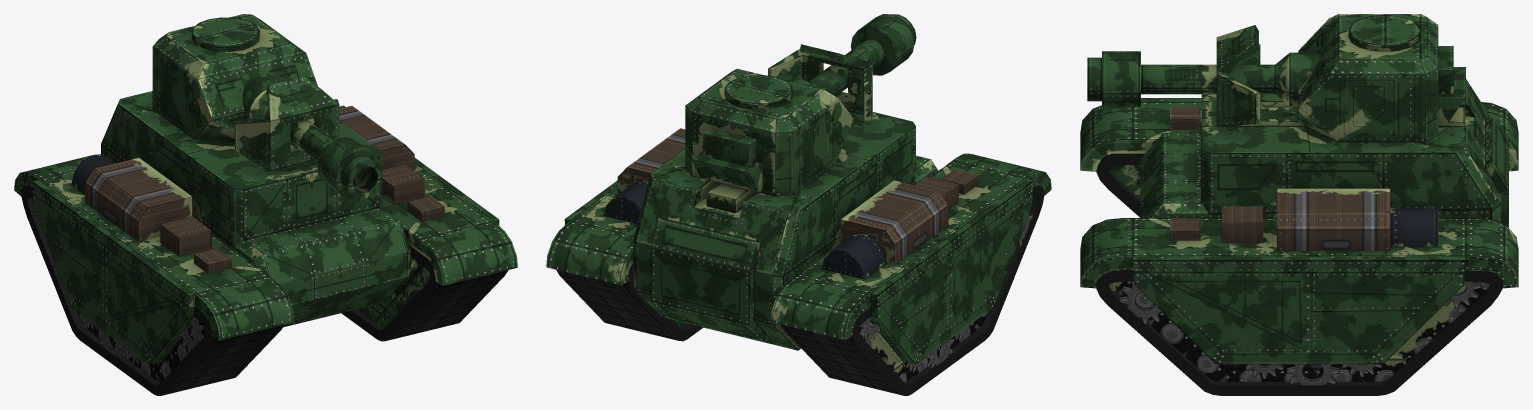
The model's file is toy_tank.glb.
3 renders of one model, left to right at view 1: azimuth 30°, elevation 25°; view 2: azimuth 150°, elevation 25°; view 3: azimuth 270°, elevation 25°, orthographic. The views are drawn at different scales.
Visible parts, largest first — view 1: Tread, Body, Turret, Tread.001, Barrel, Cogs; view 2: Tread, Body, Turret, Tread.001, Barrel, Cogs; view 3: Tread, Body, Turret, Barrel, Tread.001, Cogs.
Boxes of the visible parts, x1,y1,x2,y2 form: Tread: (14, 105, 517, 382); Body: (101, 91, 417, 327); Turret: (152, 14, 317, 142); Tread.001: (21, 185, 508, 395); Barrel: (235, 76, 382, 198); Cogs: (32, 201, 203, 365); Tread: (546, 128, 1051, 382); Body: (633, 112, 938, 350); Turret: (685, 68, 853, 196); Tread.001: (556, 186, 1044, 395); Barrel: (768, 14, 916, 120); Cogs: (859, 207, 1032, 373); Tread: (1080, 98, 1518, 381); Body: (1140, 79, 1508, 227); Turret: (1298, 14, 1465, 142); Barrel: (1087, 25, 1320, 126); Tread.001: (1096, 153, 1502, 395); Cogs: (1119, 281, 1481, 385).
Size of the model in its own units: 417 by 346 by 477.
3 materials, 3 textured.
